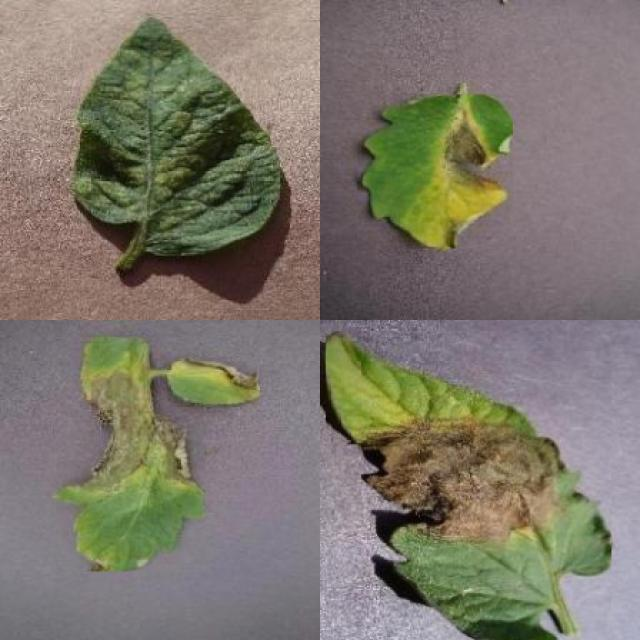Late Blight: (327, 330, 612, 640), (52, 337, 205, 572), (357, 94, 513, 249), (167, 357, 260, 407)
Spider Mites: (74, 13, 280, 256)
